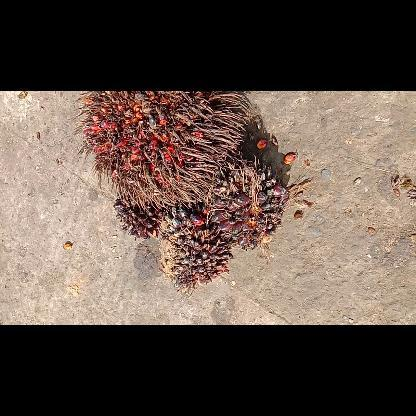TBS abnormal: (206, 160, 290, 254), (156, 206, 235, 292), (111, 192, 169, 240)
Terlalu masak: (74, 92, 250, 204)
